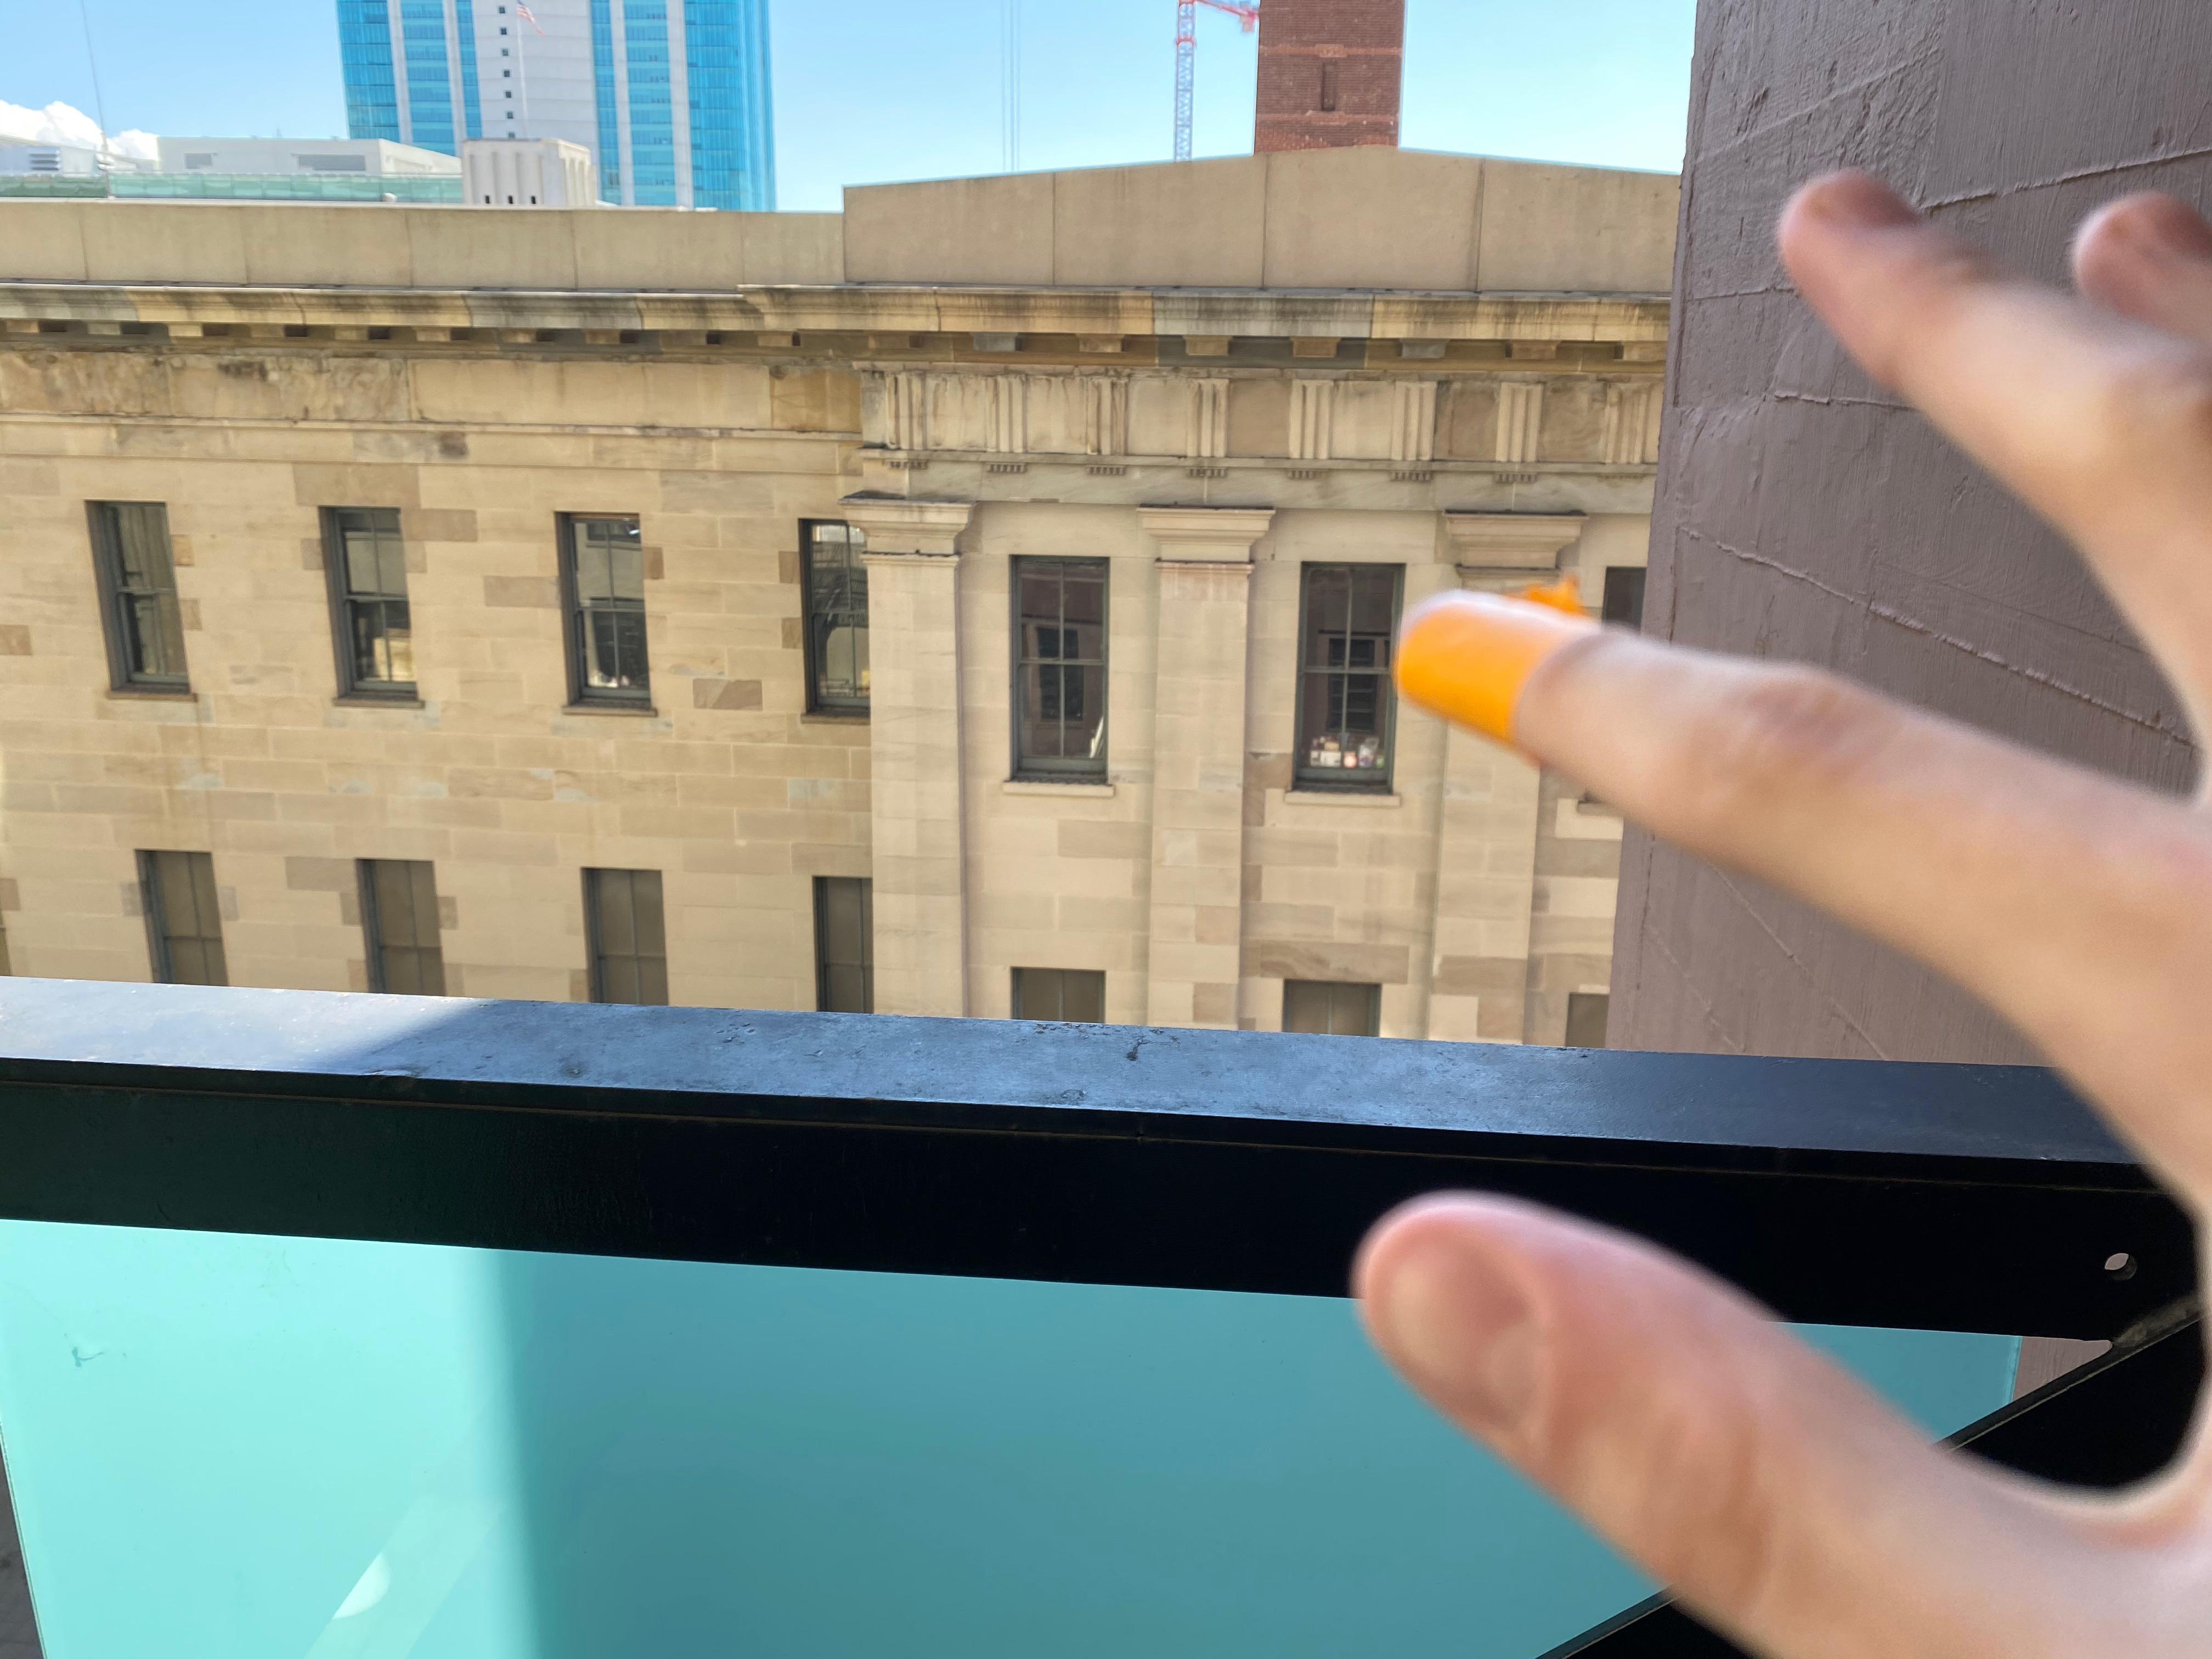fingertip: (1324, 1176, 1677, 1483)
